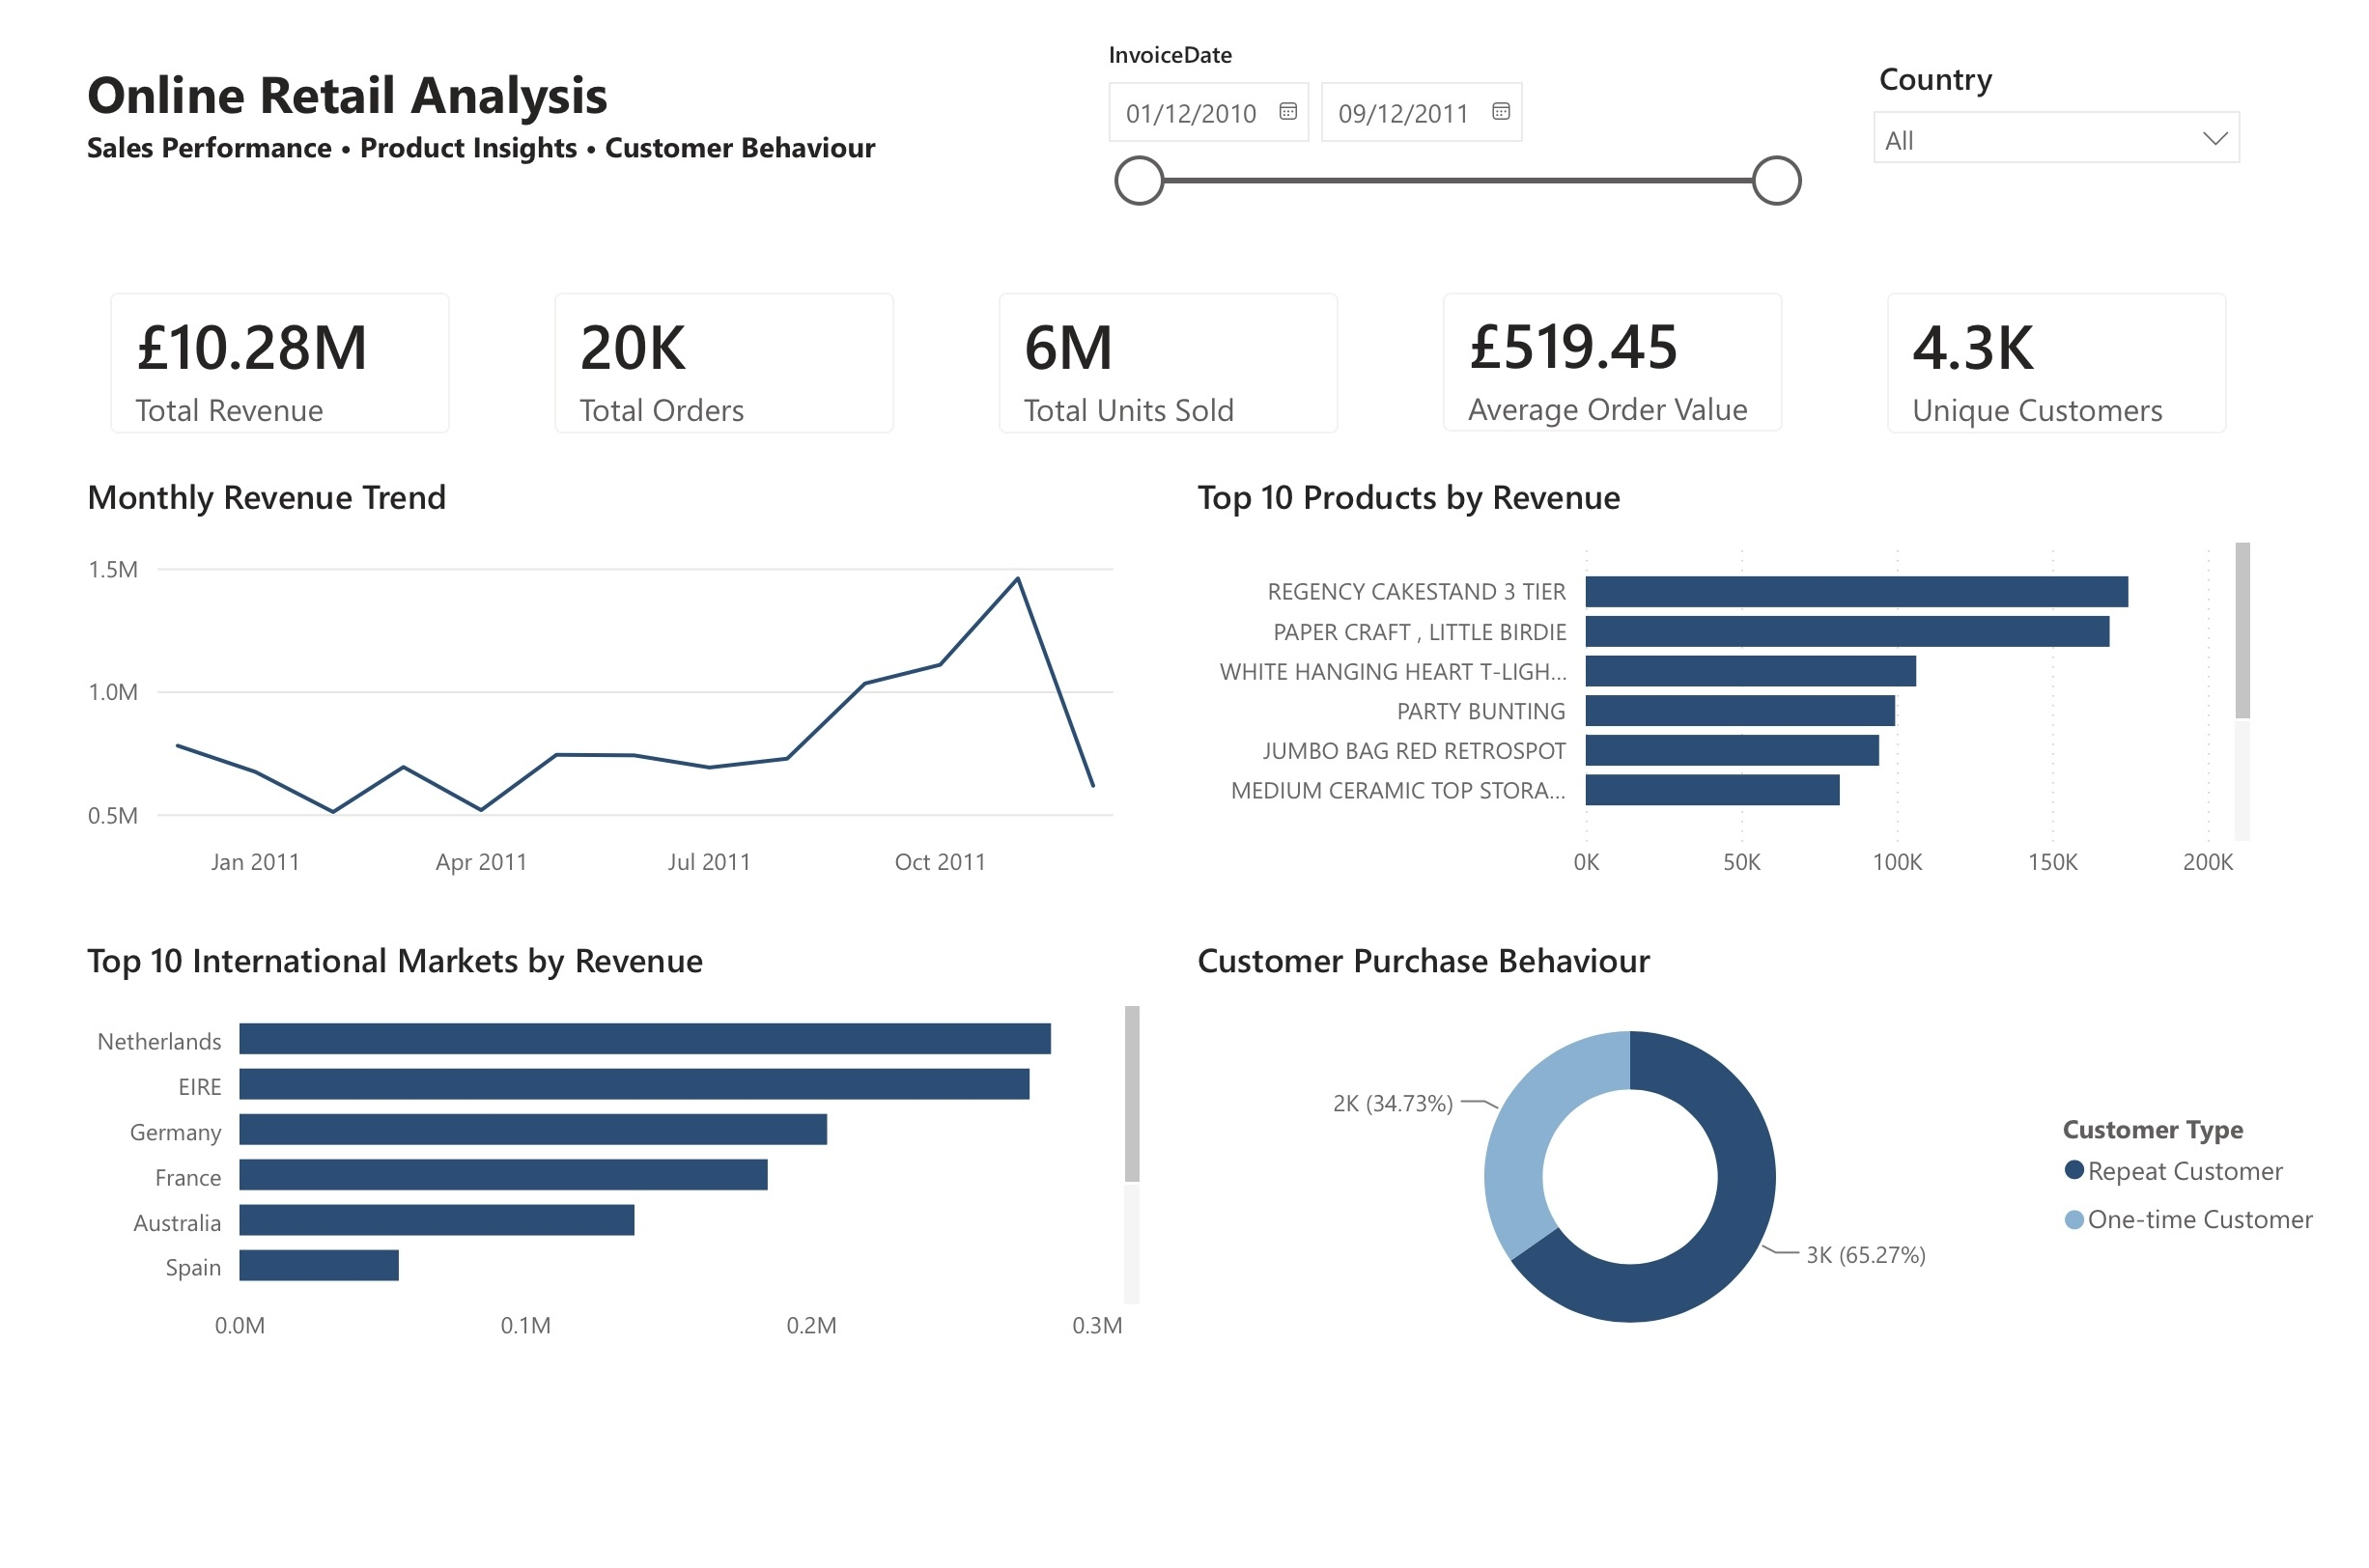

The dashboard page shown, as its layout file describes it:
{"tool":"powerbi","page":{"name":"Page 1","canvas":[1280,720],"ordinal":0},"visuals":[{"type":"cardVisual","fields":{"Data":["Retail Sales.Total Revenue"]},"box":[30,125,210,106.7],"z":0},{"type":"cardVisual","fields":{"Data":["Retail Sales.Total Orders"]},"box":[260,125,210,106.7],"z":1000},{"type":"cardVisual","fields":{"Data":["Retail Sales.Total Units Sold"]},"box":[490,125,210,106.7],"z":2000},{"type":"cardVisual","fields":{"Data":["Retail Sales.Average Order Value"]},"box":[720,125,210,106],"z":3000},{"type":"cardVisual","fields":{"Data":["Retail Sales.Unique Customers"]},"box":[950,125,210,106.7],"z":4000},{"type":"lineChart","title":"Monthly Revenue Trend","fields":{"Category":["Retail Sales.Month Start"],"Y":["Retail Sales.Total Revenue"]},"box":[30,235,555,220],"z":5000},{"type":"clusteredBarChart","title":"Top 10 Products by Revenue","fields":{"Category":["Retail Sales.Description"],"Y":["Retail Sales.Total Revenue"]},"box":[605,235,555,220],"z":6000},{"type":"clusteredBarChart","title":"Top 10 International Markets by Revenue","fields":{"Category":["Retail Sales.Country"],"Y":["Retail Sales.Total Revenue"]},"box":[30,475,555,220],"z":7000},{"type":"donutChart","title":"Customer Purchase Behaviour ","fields":{"Category":["Customer Type Selector.Customer Type"],"Y":["Retail Sales.Customer Type Count"]},"box":[605,475,596.7,226.7],"z":8000},{"type":"slicer","fields":{"Values":["Retail Sales.InvoiceDate"]},"box":[550,15,380,90],"z":9000},{"type":"slicer","fields":{"Values":["Retail Sales.Country"]},"box":[950,15,210,90],"z":10000},{"type":"textbox","box":[30,15,500,75],"z":11000}]}

Visuals, with their boxes on the page's 1280x720 design canvas (x1, y1, x2, y2). These are canvas units, not pixel positions in the 2369x1568 screenshot, which may show the page scaled, cropped or inside an application window:
cardVisual - Retail Sales.Total Revenue: region(30, 125, 240, 232)
cardVisual - Retail Sales.Total Orders: region(260, 125, 470, 232)
cardVisual - Retail Sales.Total Units Sold: region(490, 125, 700, 232)
cardVisual - Retail Sales.Average Order Value: region(720, 125, 930, 231)
cardVisual - Retail Sales.Unique Customers: region(950, 125, 1160, 232)
"Monthly Revenue Trend" lineChart: region(30, 235, 585, 455)
"Top 10 Products by Revenue" clusteredBarChart: region(605, 235, 1160, 455)
"Top 10 International Markets by Revenue" clusteredBarChart: region(30, 475, 585, 695)
"Customer Purchase Behaviour " donutChart: region(605, 475, 1202, 702)
slicer - Retail Sales.InvoiceDate: region(550, 15, 930, 105)
slicer - Retail Sales.Country: region(950, 15, 1160, 105)
textbox: region(30, 15, 530, 90)
